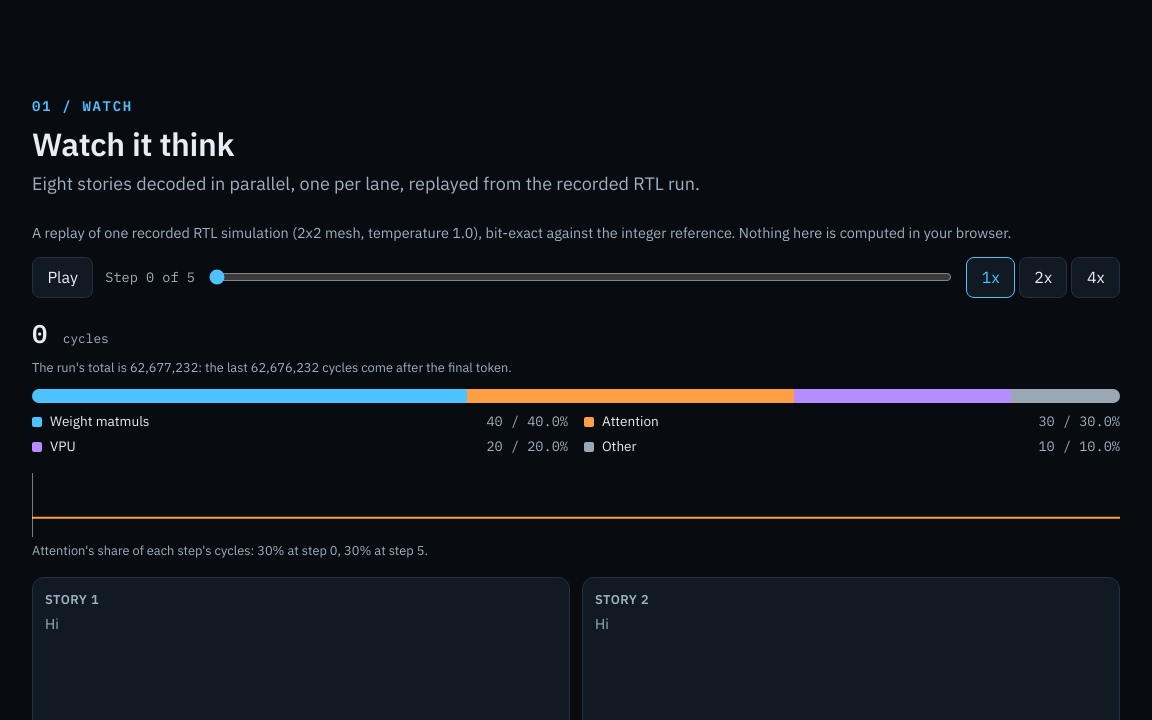
Test: ReplaySection › scrubbing pauses and jumps to the start of that step
Step 1. Set the slider to "3" → (654, 277), box [209,269,952,285]
(page scrolled)
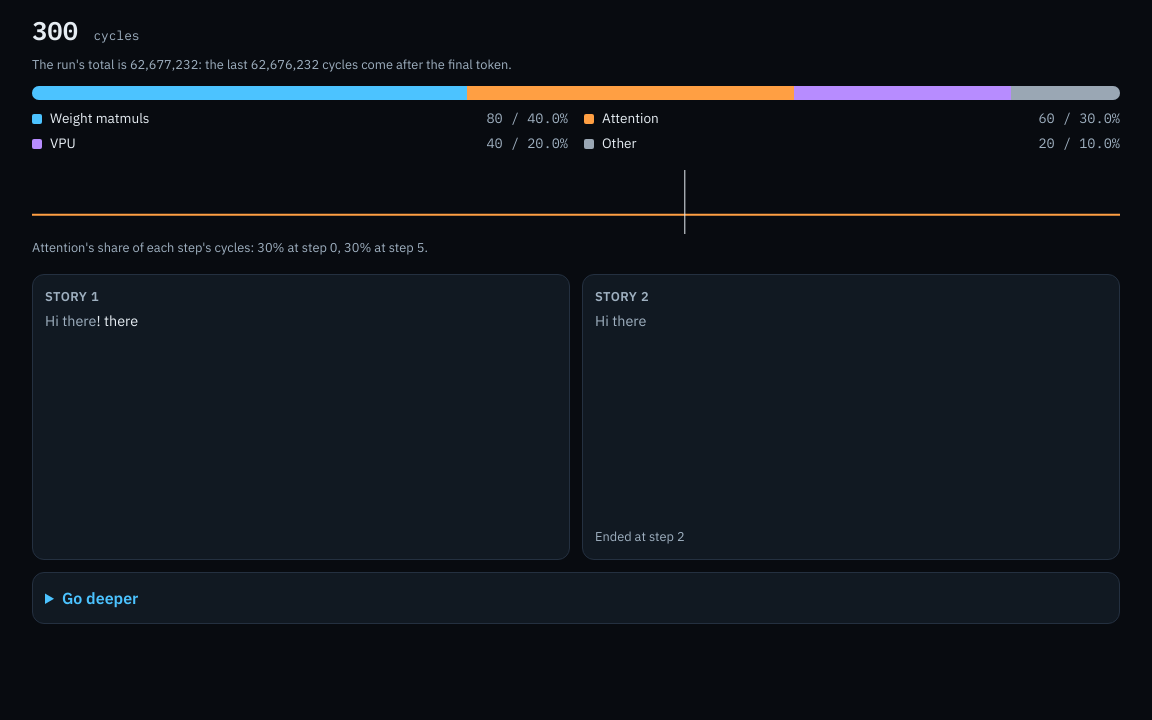
Expected: the element with class "lane-text" reads "Hi there! there", [45,311,138,330]
